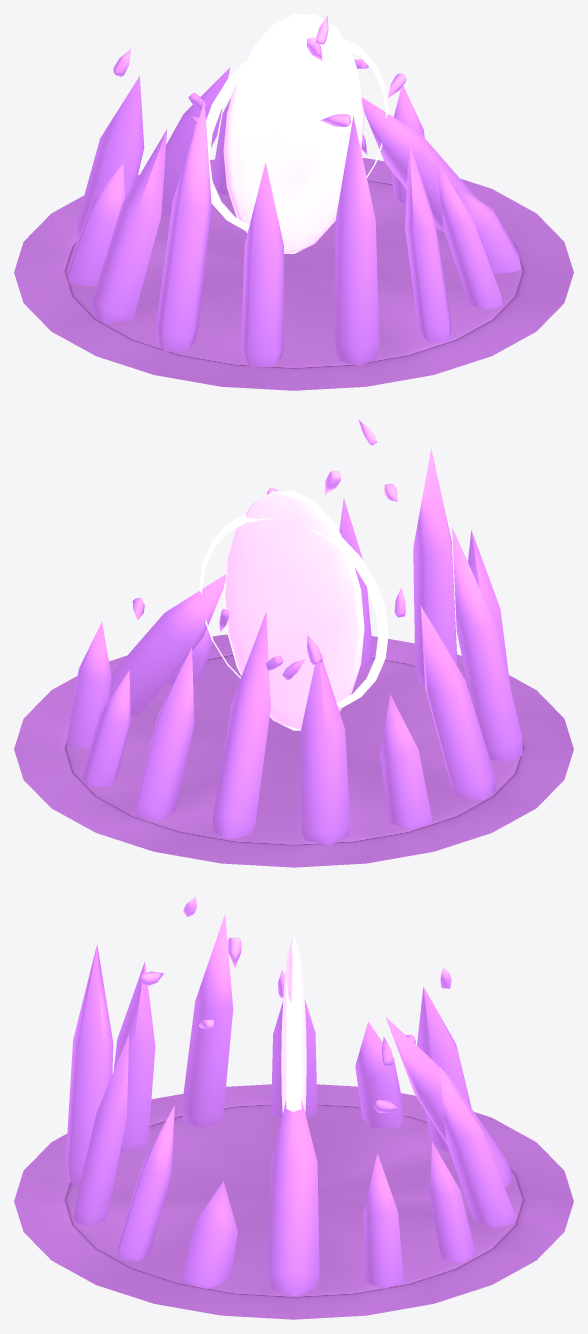
Rendered from rift.glb.
3 views of the same model, one above another, from view 1: azimuth 30°, elevation 25°; view 2: azimuth 150°, elevation 25°; view 3: azimuth 270°, elevation 25° (orthographic).
Parts seen in each view (by area): view 1: Rift; view 2: Rift; view 3: Rift.
Boxes of the visible parts, <box> form: Rift: <box>14,14,573,390</box>; Rift: <box>14,419,573,867</box>; Rift: <box>14,896,573,1319</box>.
Size of the model in its own units: 11 by 6.94 by 11.
